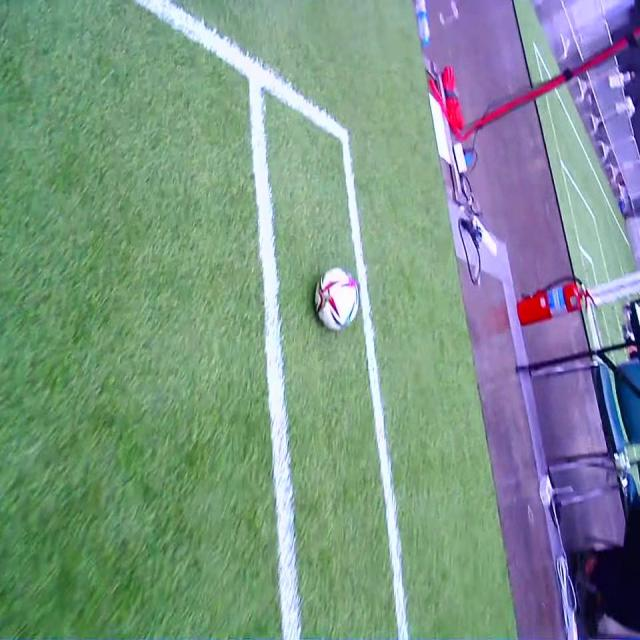ball: (312, 266, 359, 330)
